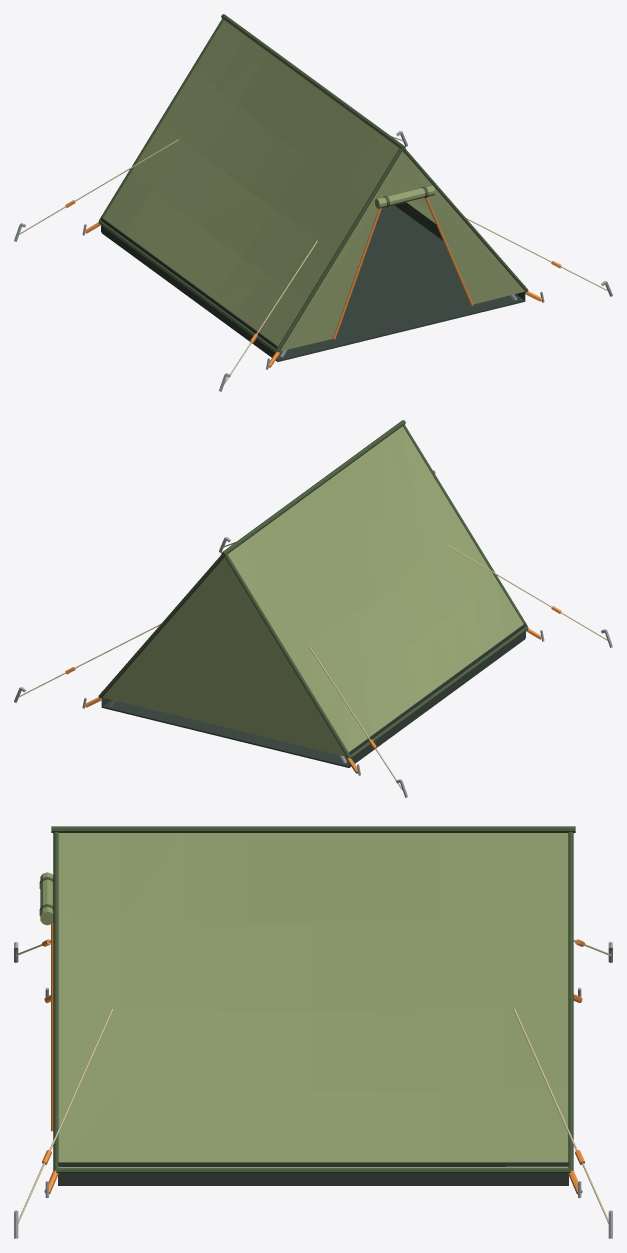
File: CampTent.obj
3 views of the same model, one above another, from view 1: azimuth 30°, elevation 25°; view 2: azimuth 150°, elevation 25°; view 3: azimuth 270°, elevation 25° (orthographic). The views are drawn at different scales.
Visible parts, largest first — view 1: Canvas_Olive, Groundsheet_Charcoal, Seams_Forest, Webbing_Amber, Guyline_Sand; view 2: Canvas_Olive, Groundsheet_Charcoal, Seams_Forest, Guyline_Sand; view 3: Canvas_Olive, Seams_Forest, Groundsheet_Charcoal, Webbing_Amber, Guyline_Sand, Poles_Aluminum.
Part boxes in pixels (bbox=[...]): Canvas_Olive: bbox=[103, 20, 524, 351]; Groundsheet_Charcoal: bbox=[101, 202, 525, 361]; Seams_Forest: bbox=[98, 14, 528, 352]; Webbing_Amber: bbox=[65, 197, 561, 367]; Guyline_Sand: bbox=[19, 136, 607, 384]; Canvas_Olive: bbox=[102, 426, 523, 756]; Groundsheet_Charcoal: bbox=[101, 623, 525, 767]; Seams_Forest: bbox=[98, 420, 528, 758]; Guyline_Sand: bbox=[19, 542, 607, 790]; Canvas_Olive: bbox=[40, 833, 568, 1167]; Seams_Forest: bbox=[39, 826, 575, 1173]; Groundsheet_Charcoal: bbox=[58, 1162, 568, 1185]; Webbing_Amber: bbox=[42, 923, 584, 1194]; Guyline_Sand: bbox=[15, 940, 611, 1223]; Poles_Aluminum: bbox=[14, 942, 612, 1238].
Bounding box in the file's own units: 4.11 × 1.88 × 3.73.
